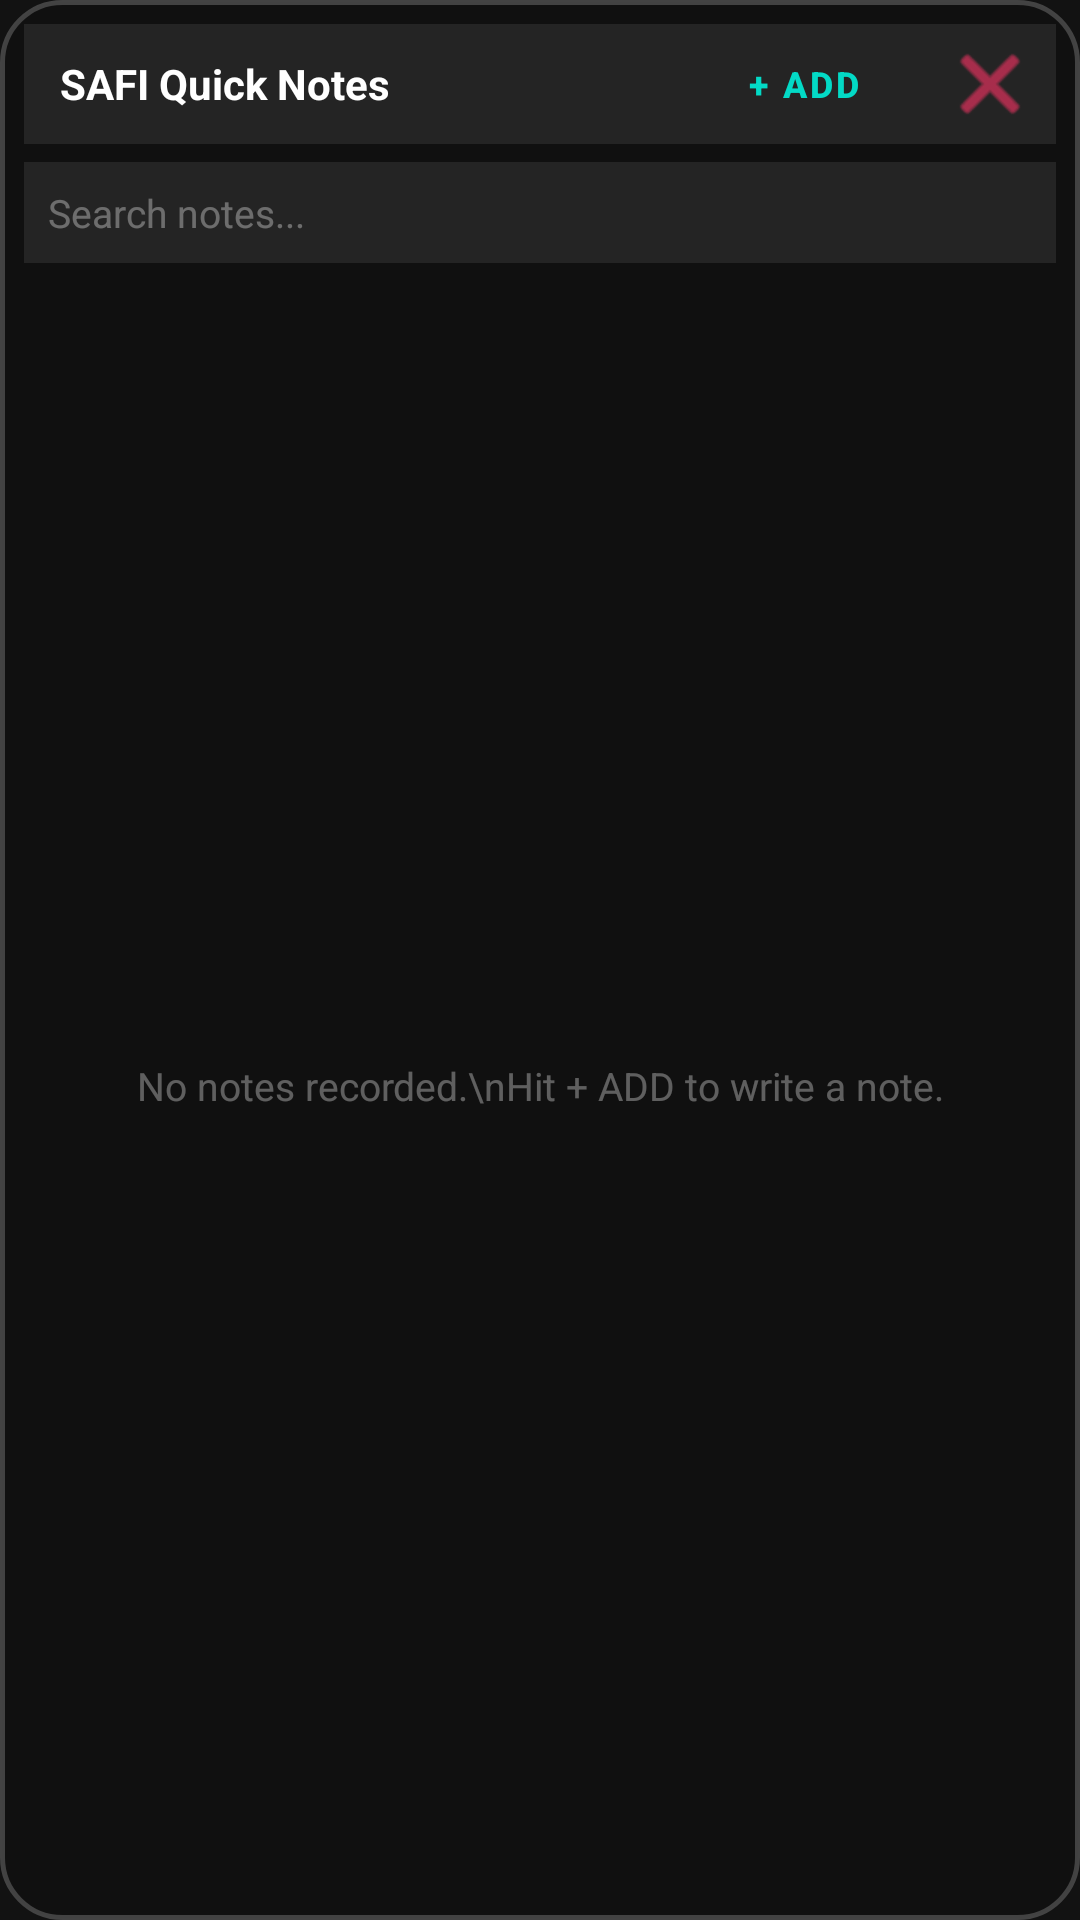

Icons on this 1080x1920 Android screen, each with its box as (x1, y1, x2, y2):
Close Notes Window: (960, 54, 1020, 114)
